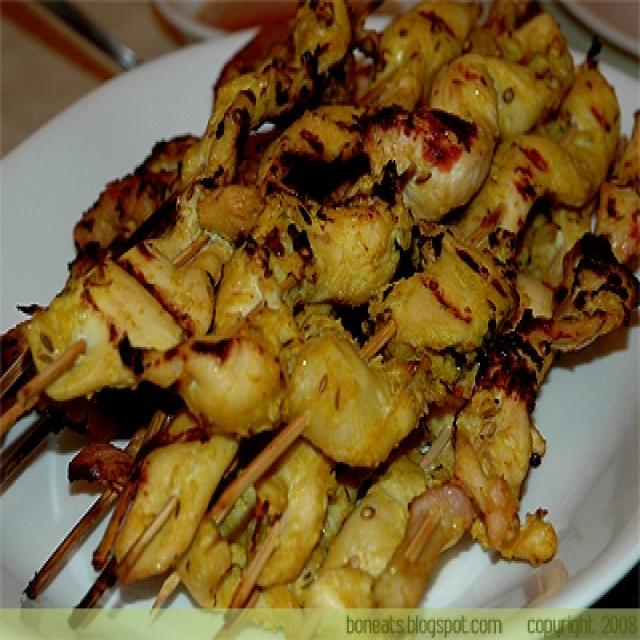牛肉菜式: (13, 11, 621, 618)
